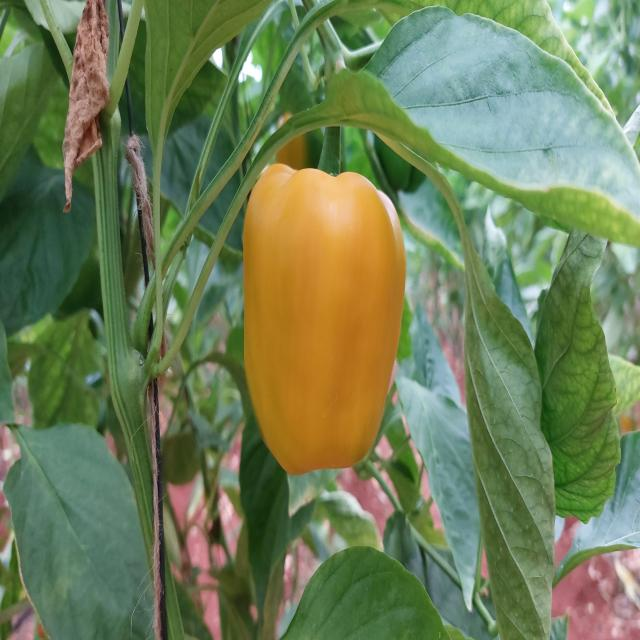Yellow-Ready-to-Harvest: (242, 162, 408, 474)
